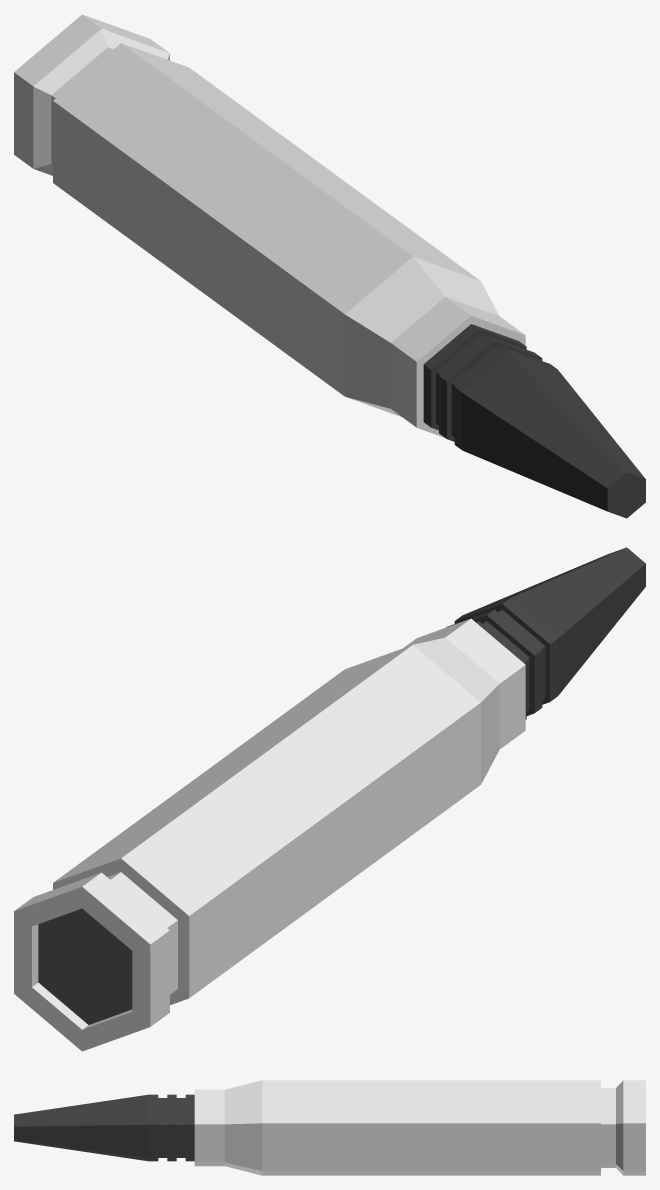
The model's file is Bullet_B.fbx.
3 renders of one model, top to bottom at view 1: azimuth 30°, elevation 25°; view 2: azimuth 150°, elevation 25°; view 3: azimuth 270°, elevation 25°, orthographic. The views are drawn at different scales.
Parts seen in each view (by area): view 1: Bullet_B, Bullet_B_Part; view 2: Bullet_B, Bullet_B_Part; view 3: Bullet_B, Bullet_B_Part.
Part boxes in pixels (<box>): Bullet_B: <box>14,14,525,437</box>; Bullet_B_Part: <box>423,324,645,518</box>; Bullet_B: <box>14,618,525,1051</box>; Bullet_B_Part: <box>446,547,645,719</box>; Bullet_B: <box>194,1080,645,1175</box>; Bullet_B_Part: <box>14,1094,194,1161</box>.
Bounding box in the file's own units: 0.0121 × 0.014 × 0.084.
